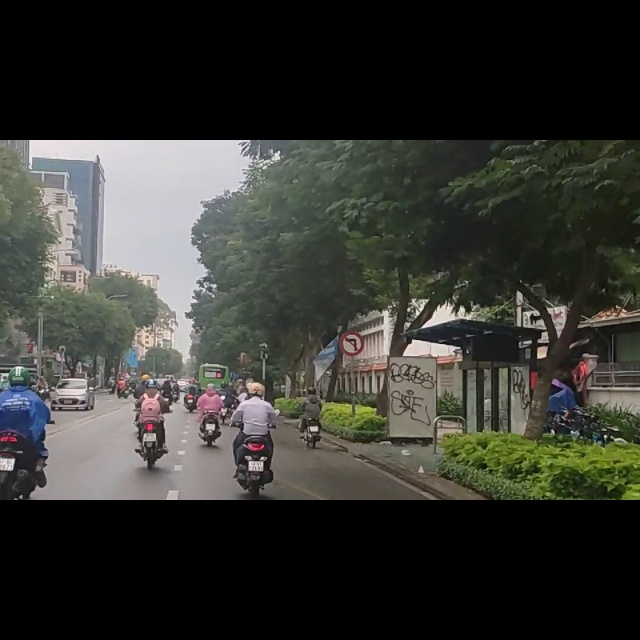bien_hieu_lenh: (340, 340, 363, 382)
